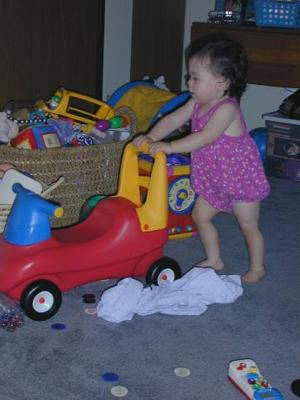person: (132, 35, 268, 288)
